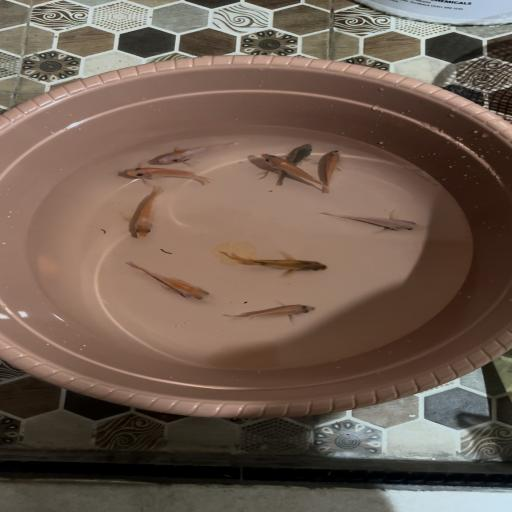nila: (121, 260, 219, 311), (217, 246, 328, 280), (313, 208, 427, 237), (143, 136, 244, 167), (125, 184, 179, 241), (215, 298, 322, 326), (252, 153, 326, 187), (113, 164, 217, 186), (273, 136, 313, 189), (320, 148, 350, 194)
